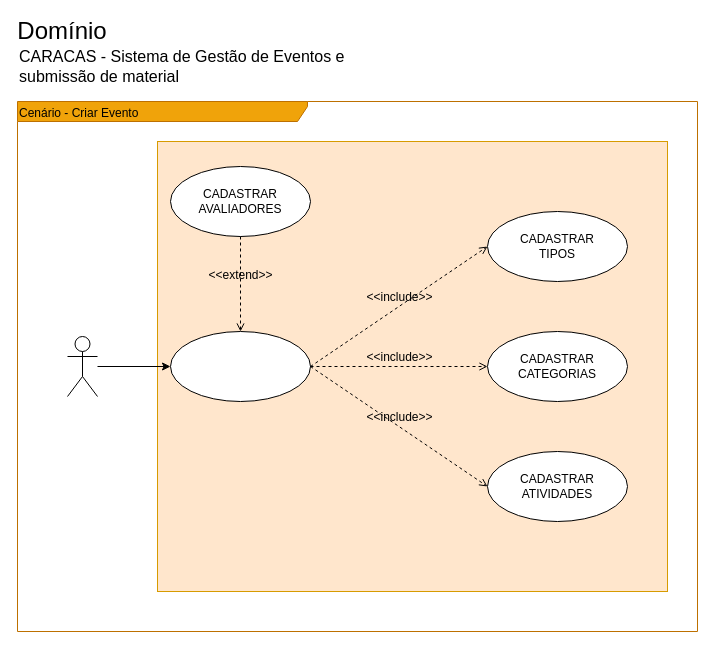
This 715x649 diagram has some shape labels left out. Each missing label, with the box of its shape:
CADASTRAR EVENTO: (170, 330, 310, 402)
SECRETARIA: (66, 336, 98, 396)
